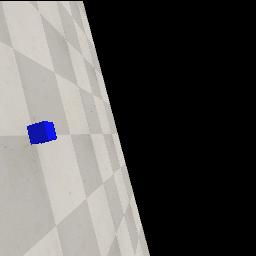box: (26, 121, 57, 145)
